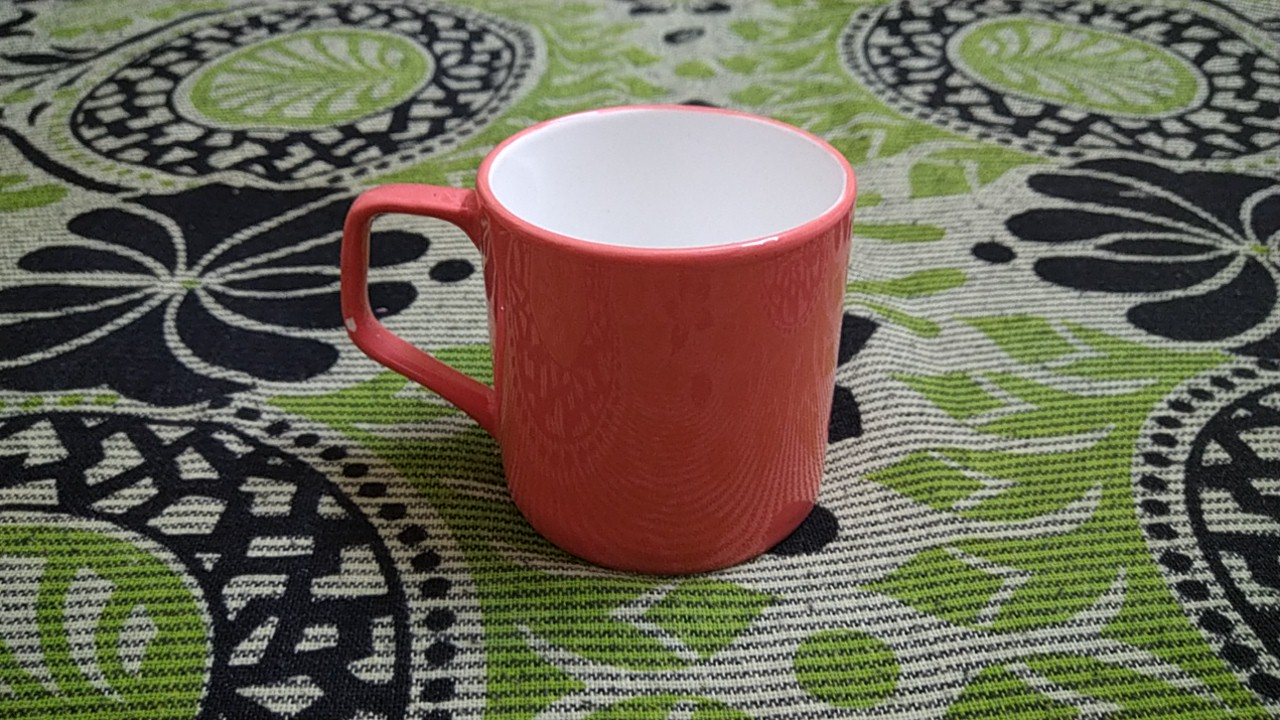cup: (324, 86, 877, 595)
